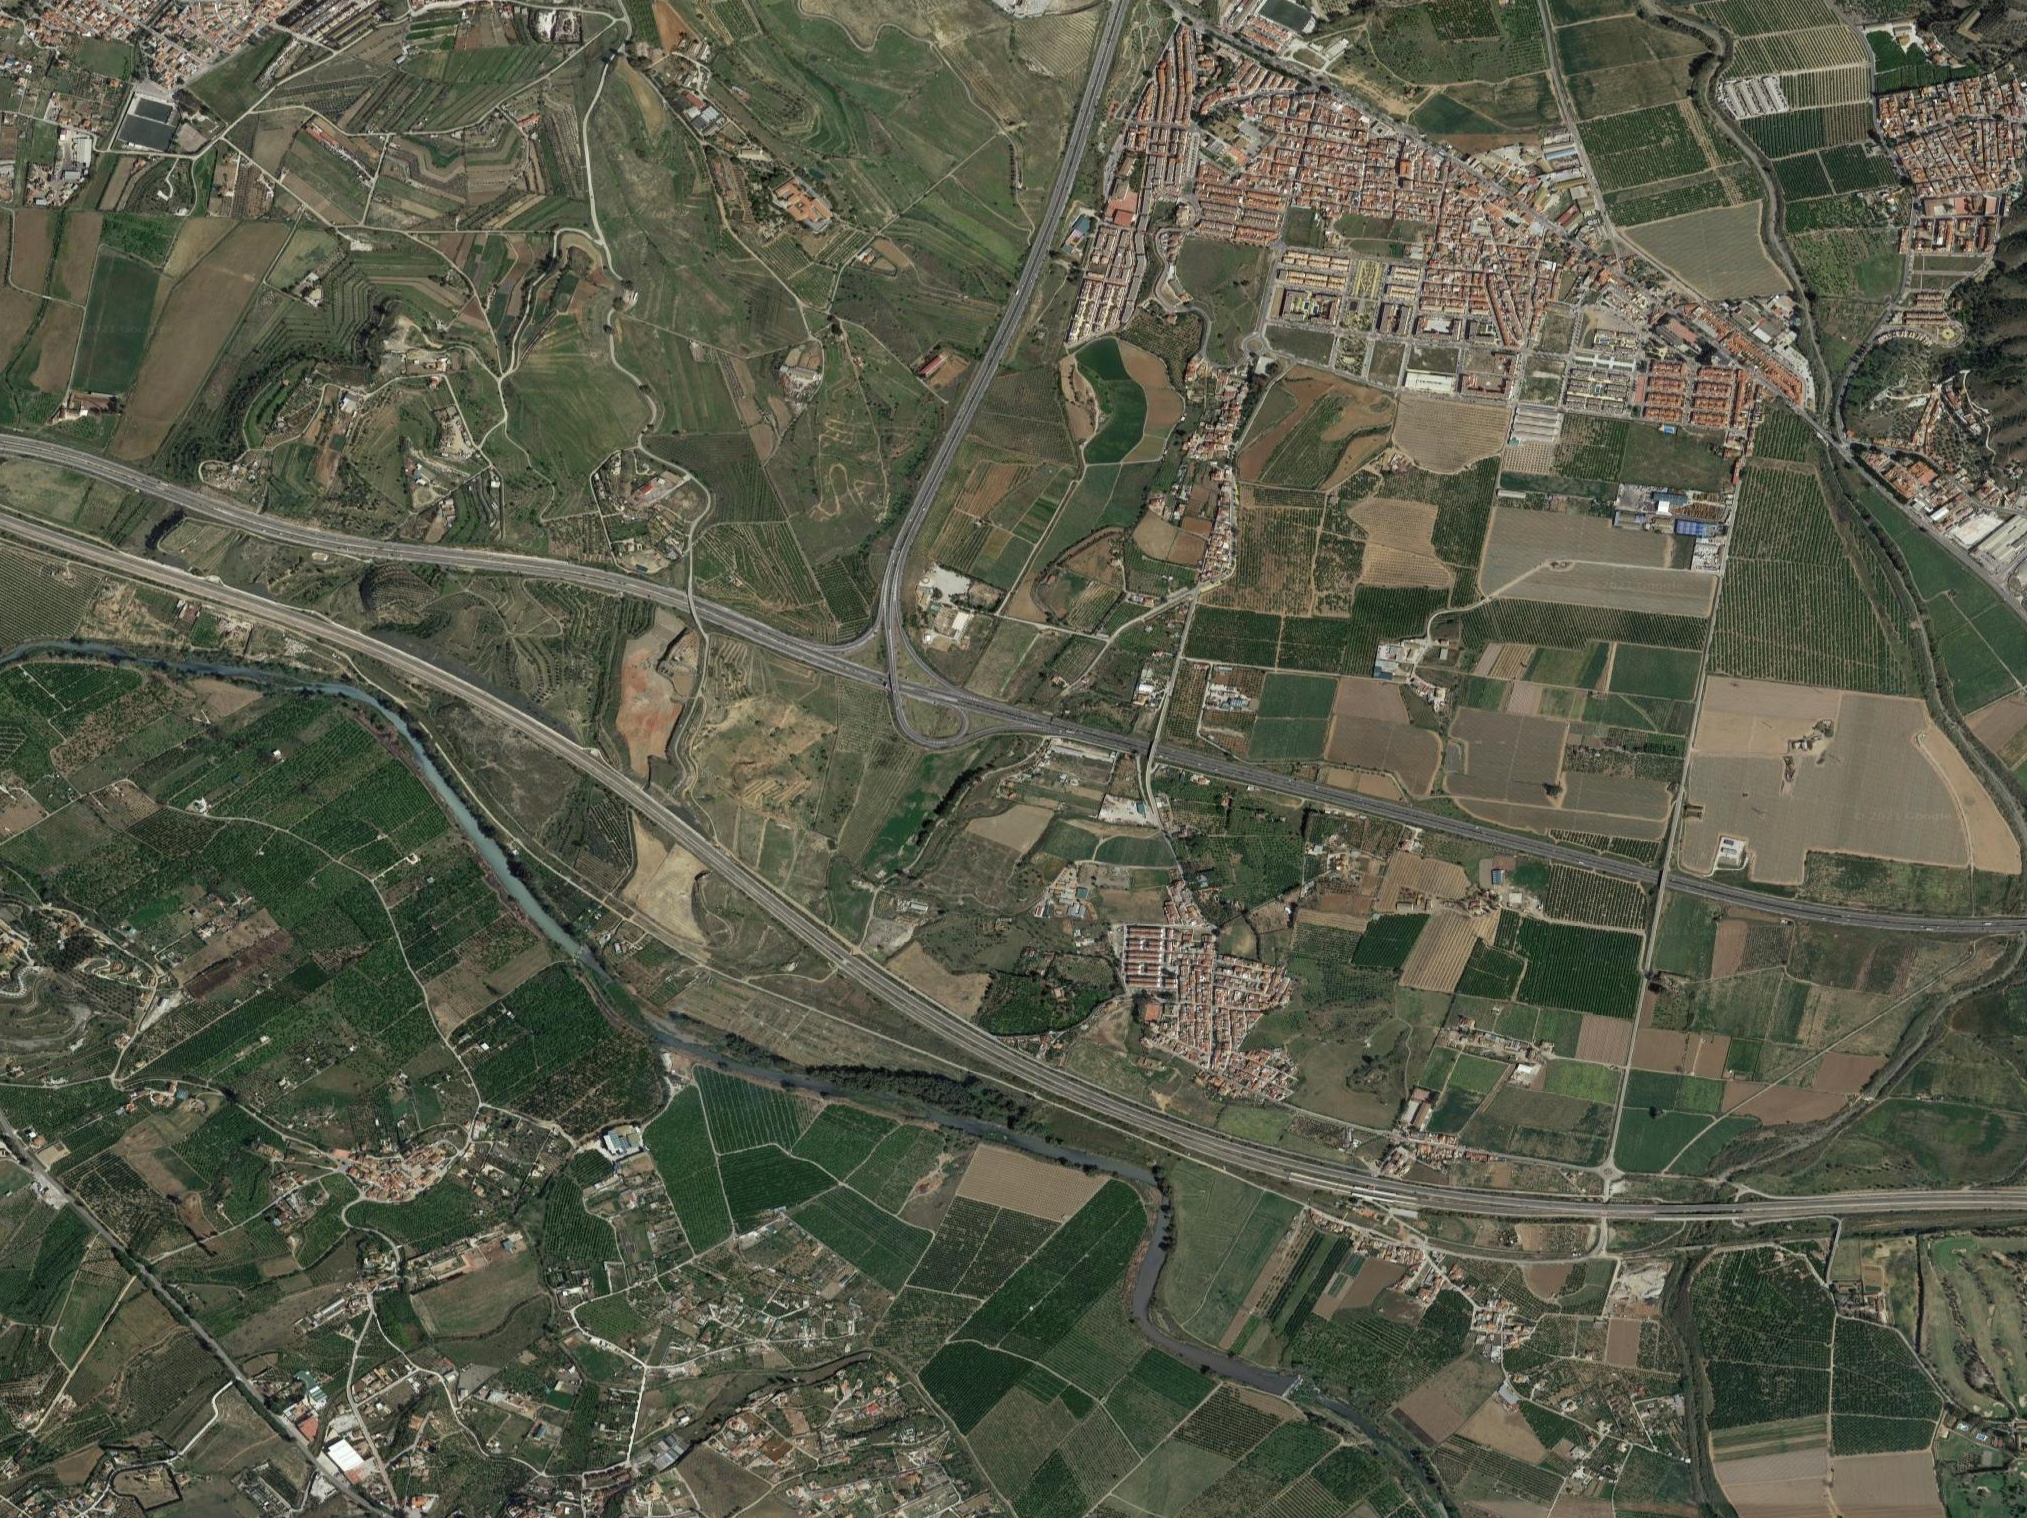motorway: (995, 1040, 1332, 1188), (893, 655, 1238, 788), (740, 879, 997, 1052), (266, 494, 641, 608), (514, 713, 738, 875), (2, 411, 268, 542), (633, 560, 893, 694), (1328, 1151, 1719, 1236), (249, 601, 517, 716), (1027, 2, 1151, 247), (933, 242, 1064, 451), (1467, 804, 1729, 907), (1238, 745, 1466, 861), (2, 513, 250, 609), (869, 440, 971, 667), (1722, 1169, 2027, 1244), (1722, 879, 2027, 954)
